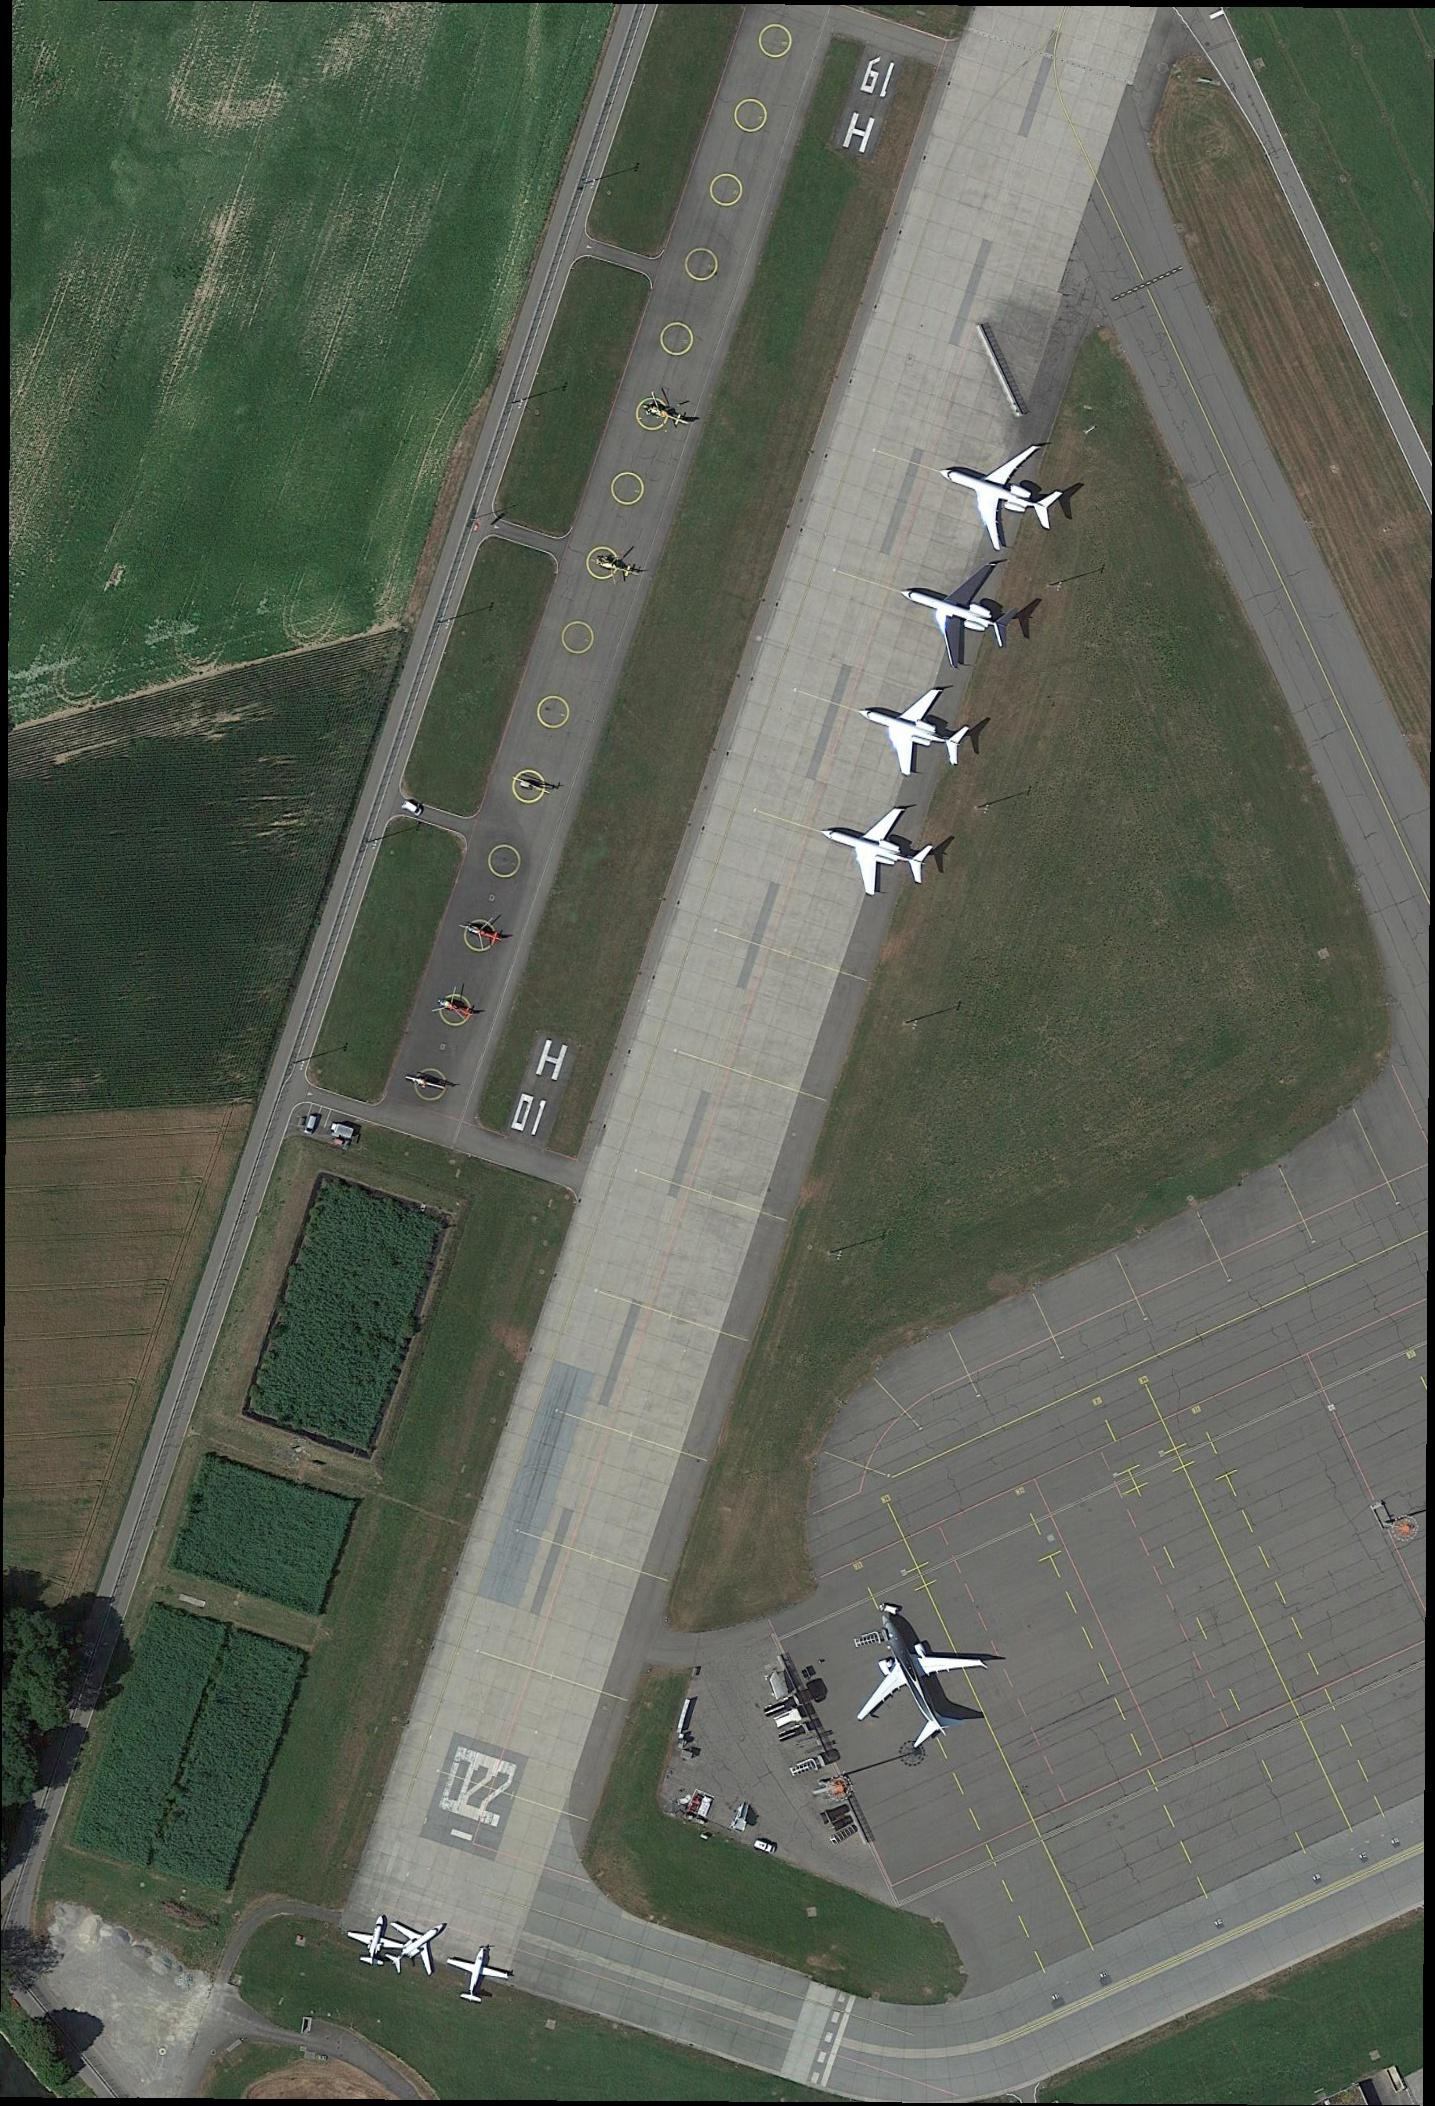plane: (813, 1569, 1019, 1789), (918, 419, 1076, 564), (882, 542, 1035, 683), (806, 788, 946, 911), (843, 670, 979, 791), (368, 1895, 466, 1994), (438, 1933, 515, 2010), (343, 1909, 411, 1973)
